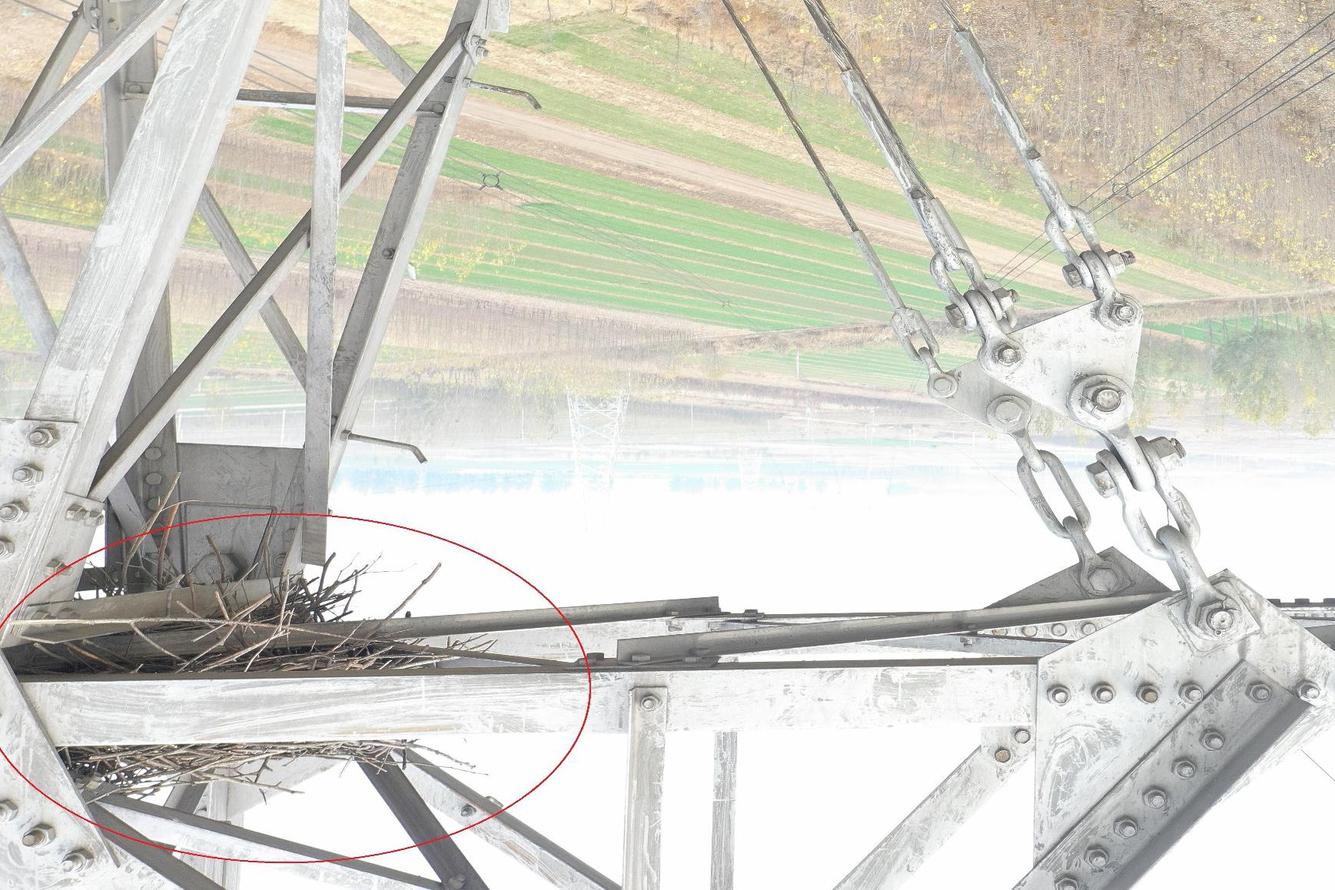nest: (10, 502, 465, 805)
